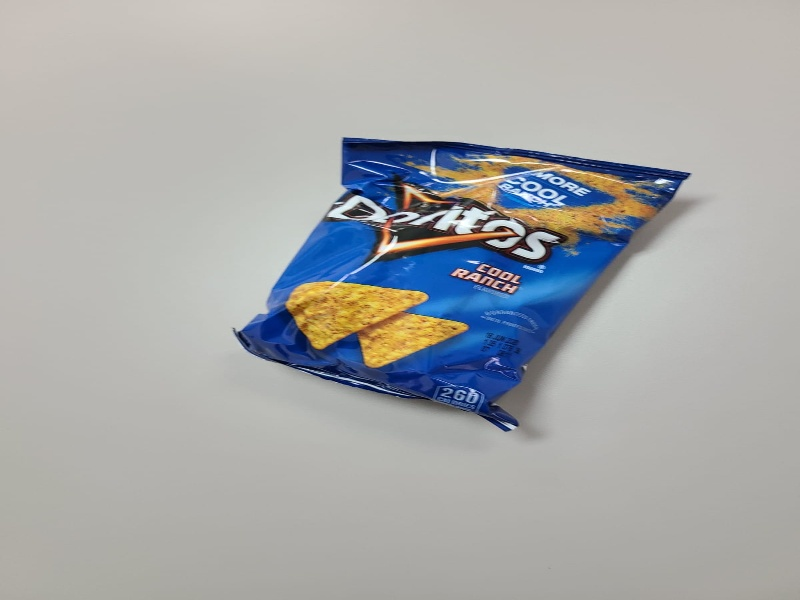doritos: (245, 124, 740, 447)
